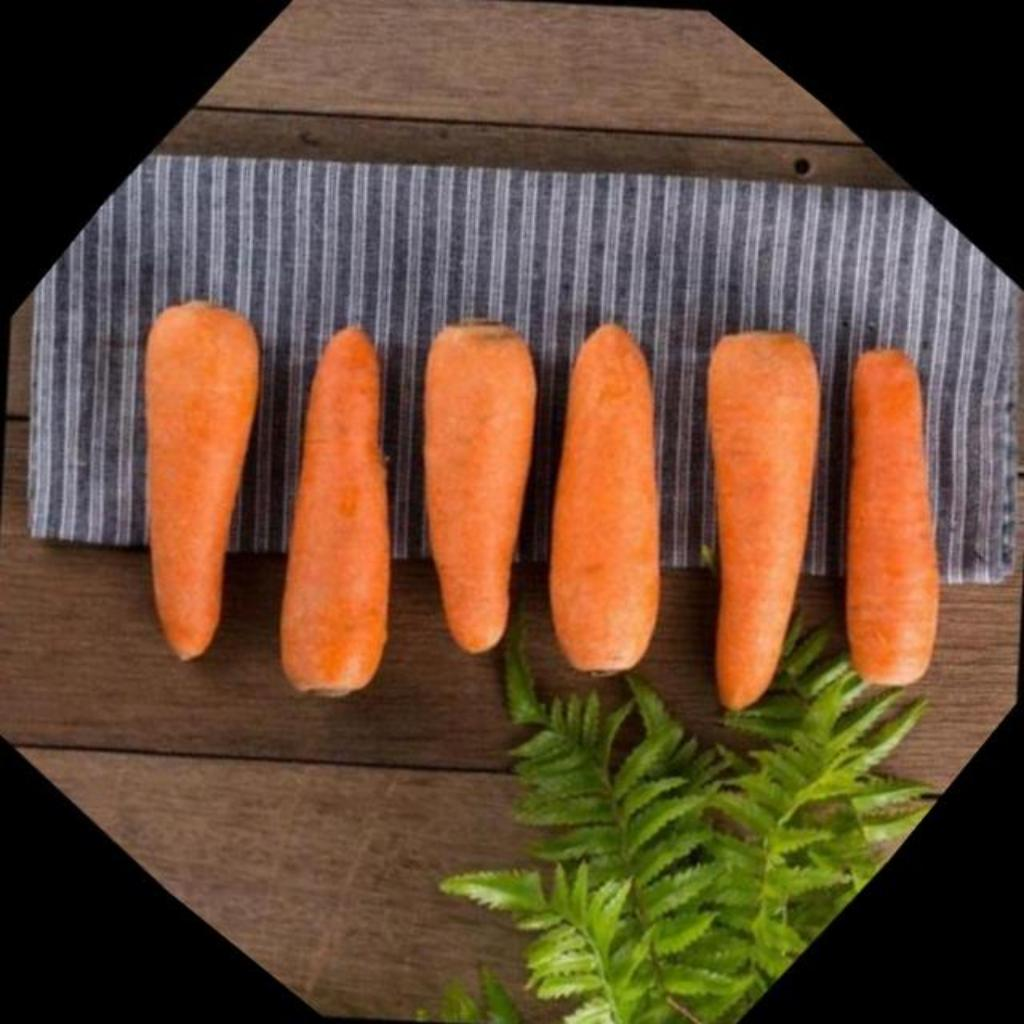carrot: (708, 332, 818, 710), (144, 302, 260, 660), (280, 326, 390, 695), (550, 324, 660, 671), (424, 322, 536, 653), (846, 350, 940, 685)
